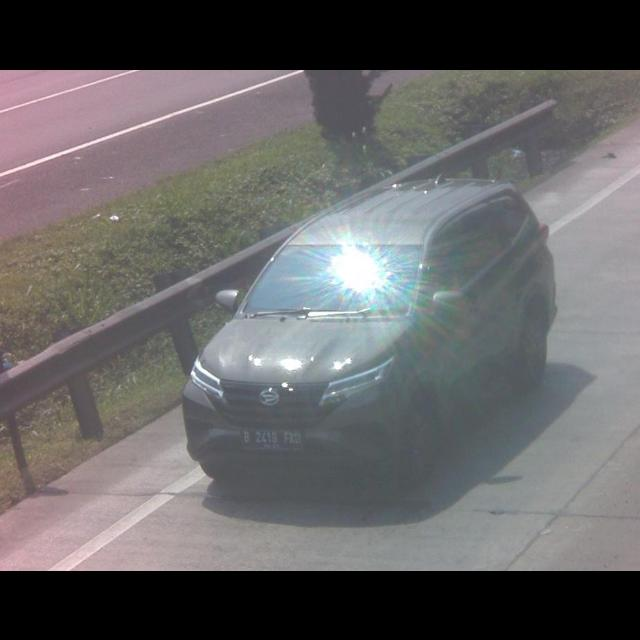plate: (238, 426, 306, 452)
